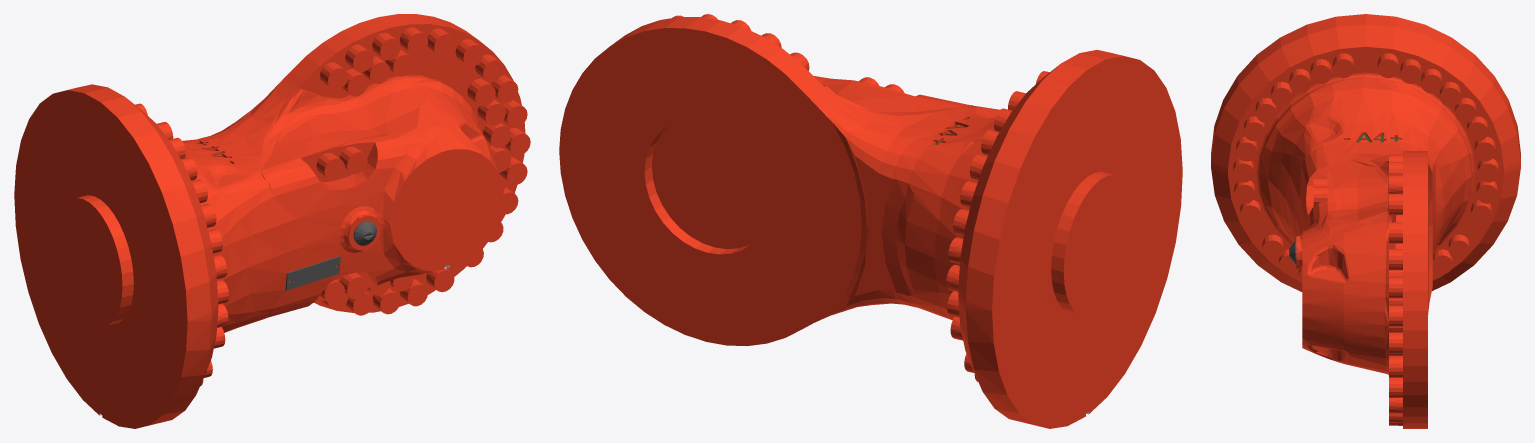
3 views of the same model, side by side, from view 1: azimuth 30°, elevation 25°; view 2: azimuth 150°, elevation 25°; view 3: azimuth 270°, elevation 25° (orthographic). The views are drawn at different scales.
Visible parts, largest first — view 1: link_4; view 2: link_4; view 3: link_4.
Part boxes in pixels (box(x1,y1,x2,y2)): link_4: box(14, 14, 530, 428); link_4: box(559, 14, 1182, 428); link_4: box(1211, 14, 1520, 428).
Size of the model in its own units: 0.4002 by 0.263 by 0.263.
